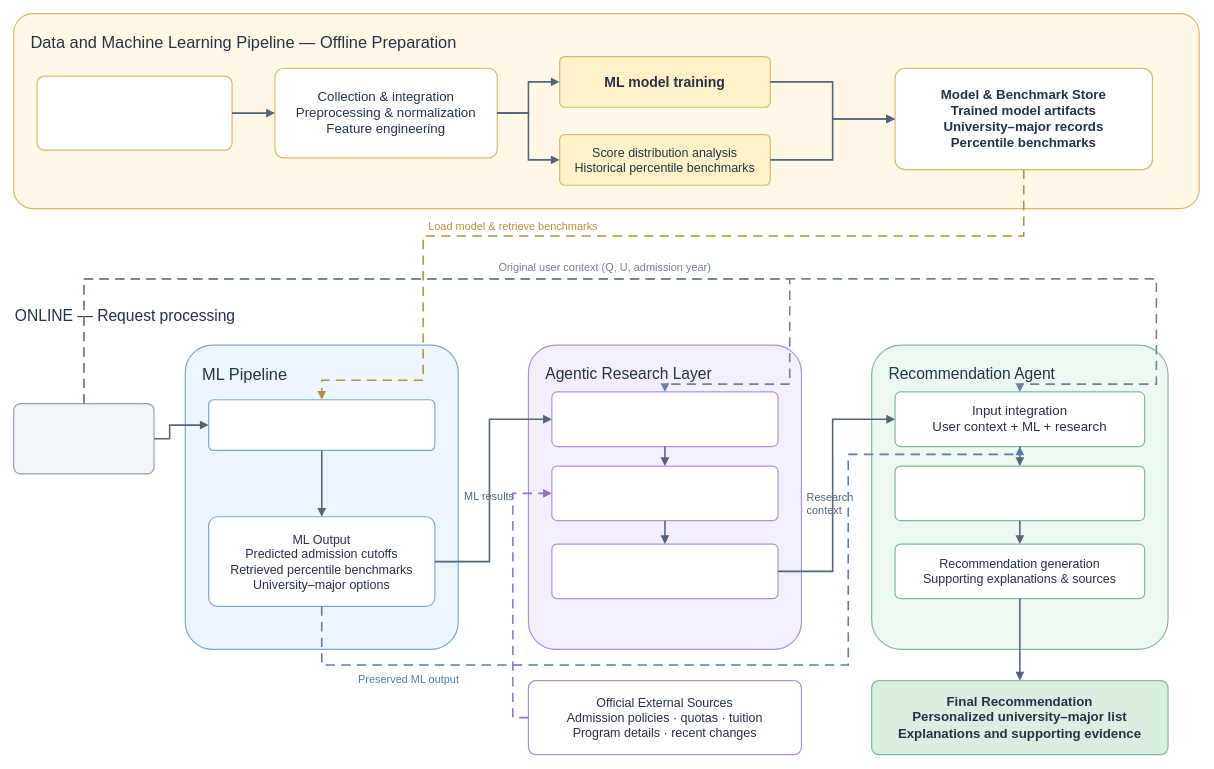
Image size: 1214x769. Some labels were removed from this diagram. Each missing label, with the centre of its shape:
Evidence extraction Structured context synthesis: [664,571]
Historical admission cutoffs National exam score data: [134,112]
ML cutoff prediction: [321,425]
Query understanding Research planning: [664,419]
Semantic alignment Candidate selection & re-ranking: [1019,493]
Targeted external retrieval Source verification: [664,493]
User Query Applicant profile: [83,438]
